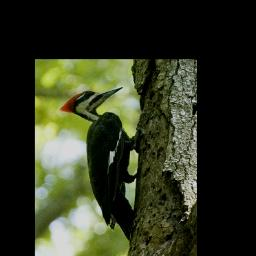Woodpecker: (59, 87, 141, 241)
